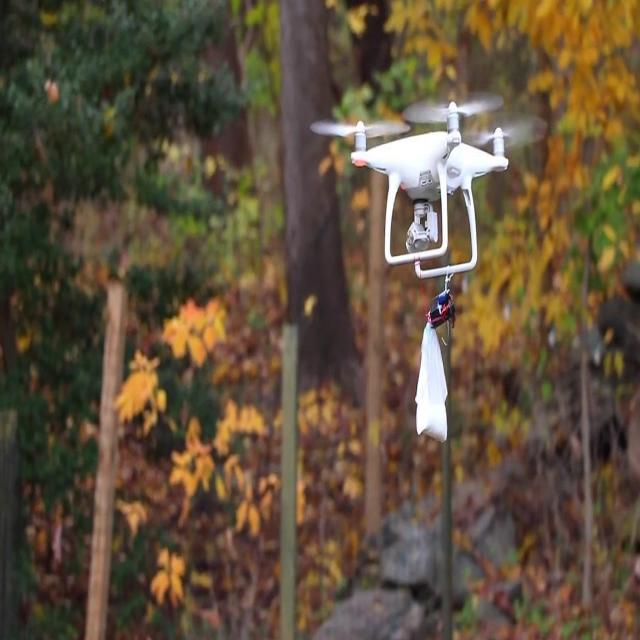UAV: (310, 93, 548, 279)
